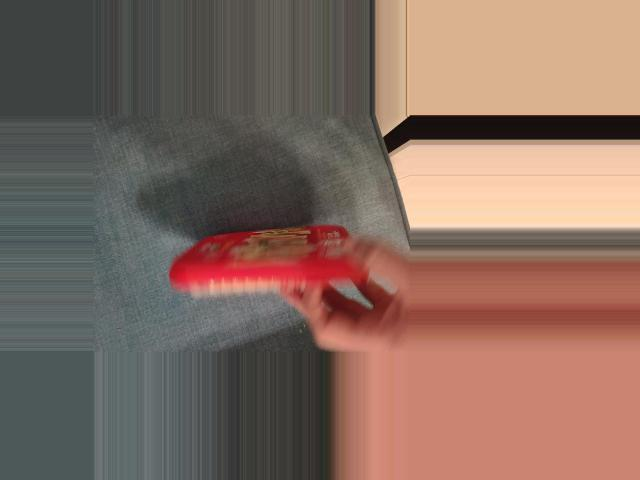cheese: (175, 232, 365, 293)
